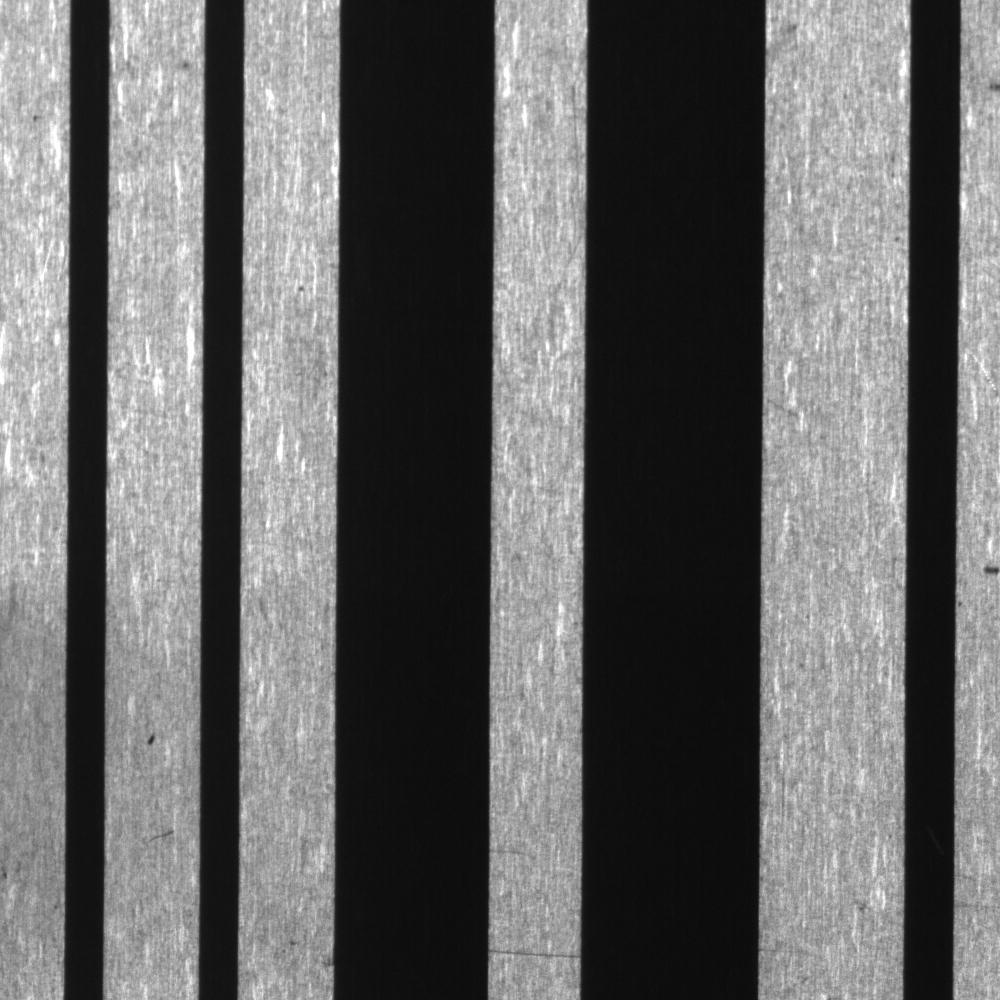Etching: (127, 717, 172, 760)
Pinhole: (175, 50, 201, 76), (293, 277, 311, 302)
Scar: (491, 933, 580, 977), (564, 75, 584, 253), (766, 379, 813, 437), (491, 826, 542, 879), (137, 819, 191, 856)
